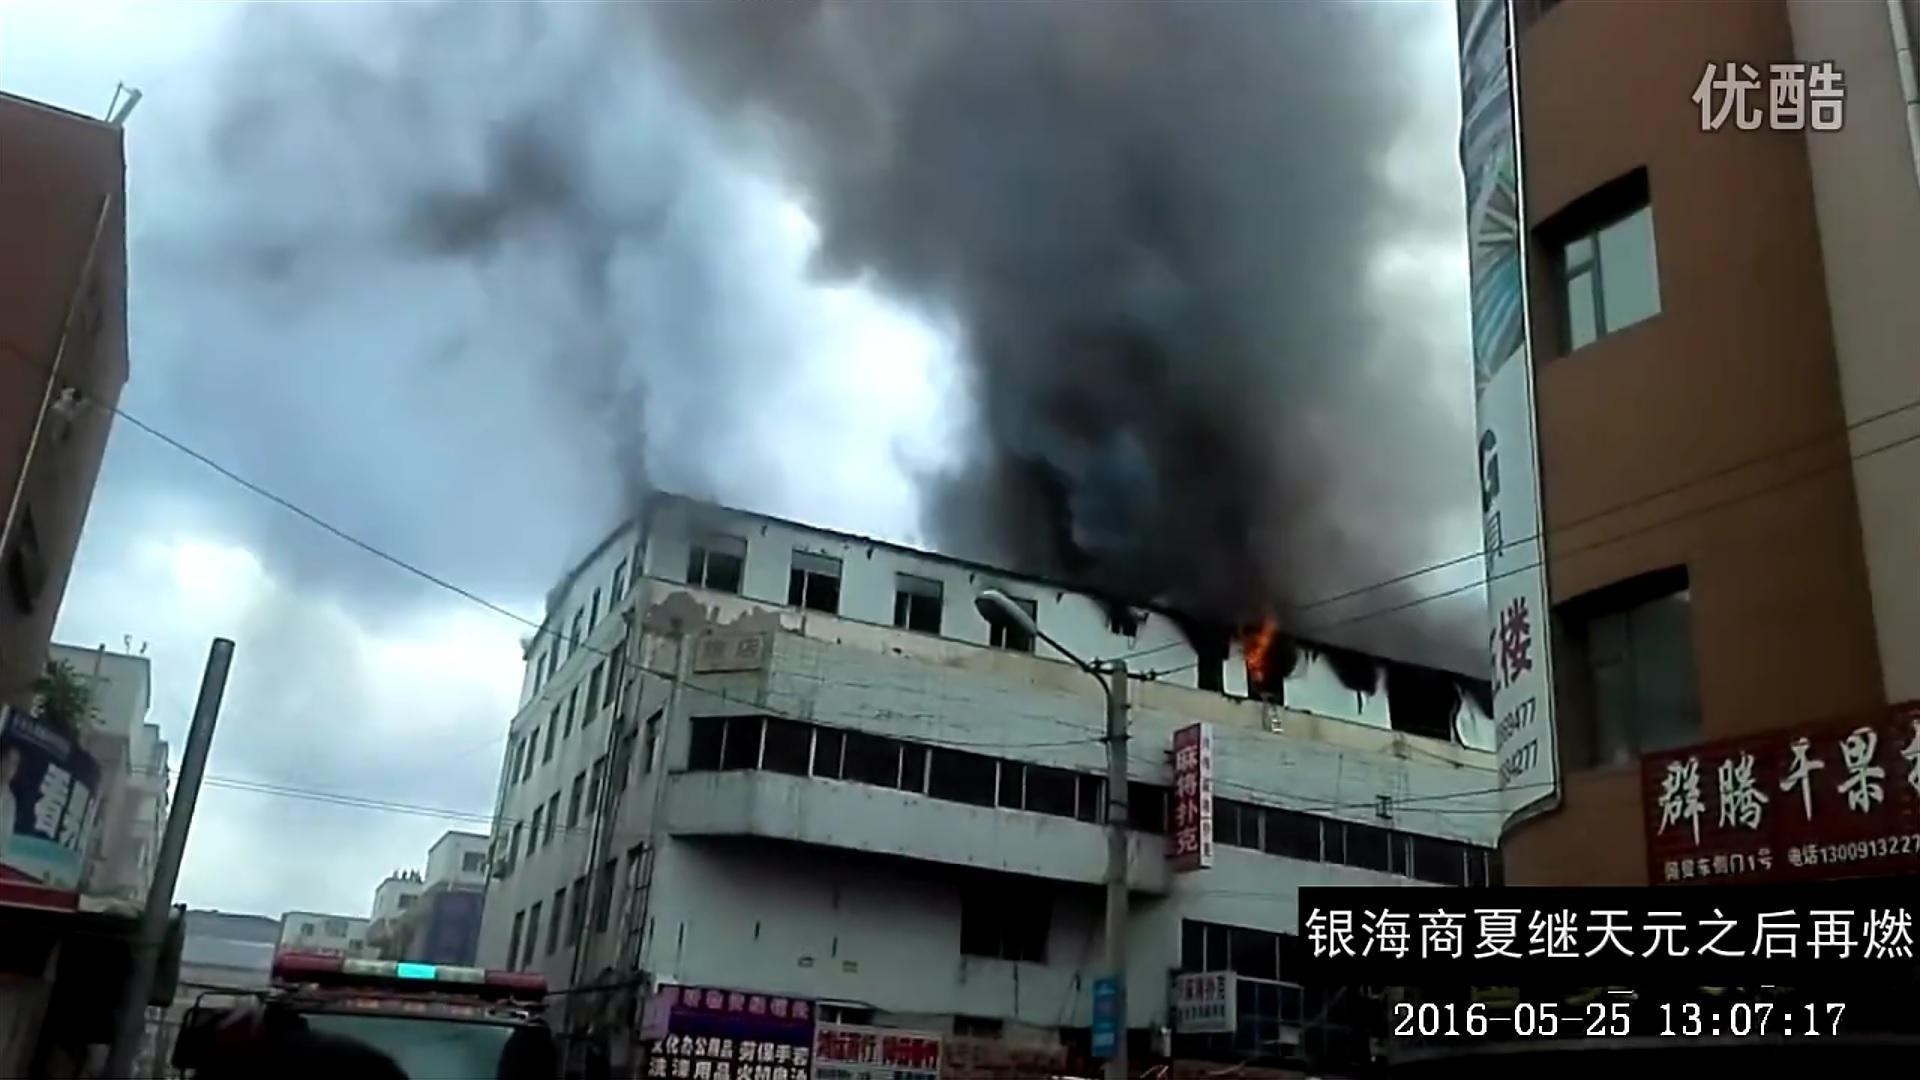fire: (1236, 611, 1284, 688)
